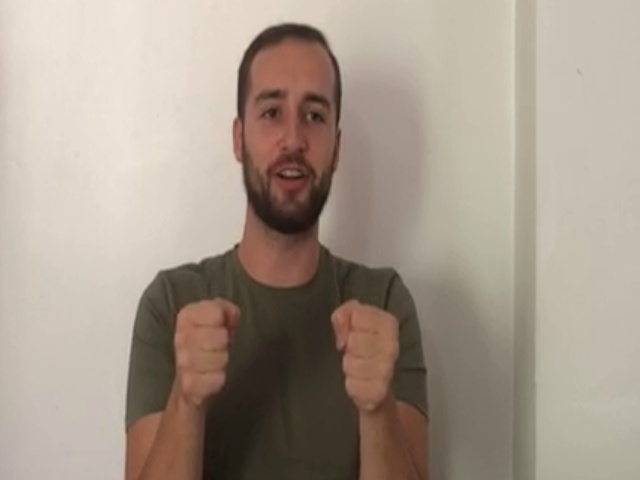Sili: (169, 293, 405, 417)
